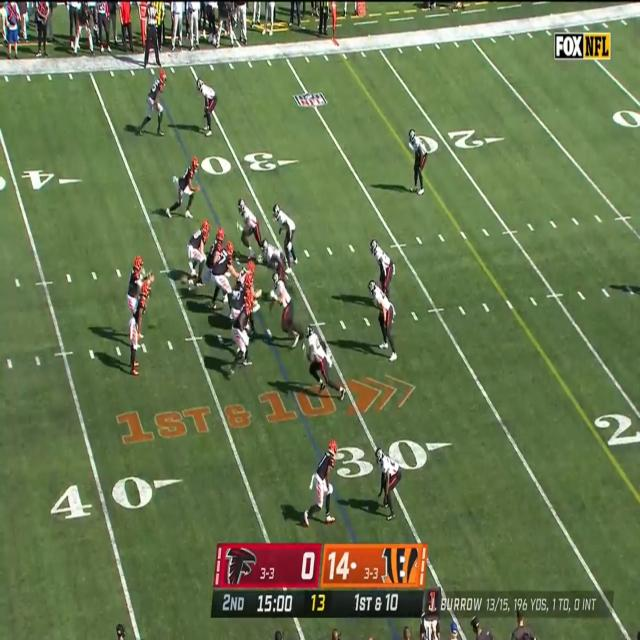Ball: (180, 277, 188, 287)
